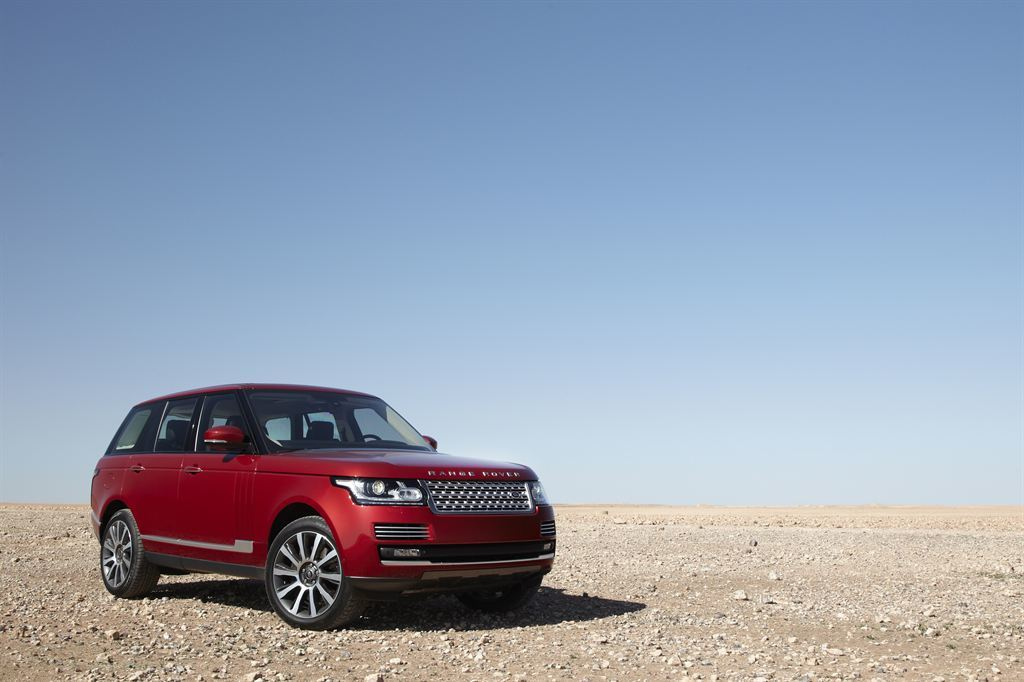cars: (90, 379, 554, 627)
